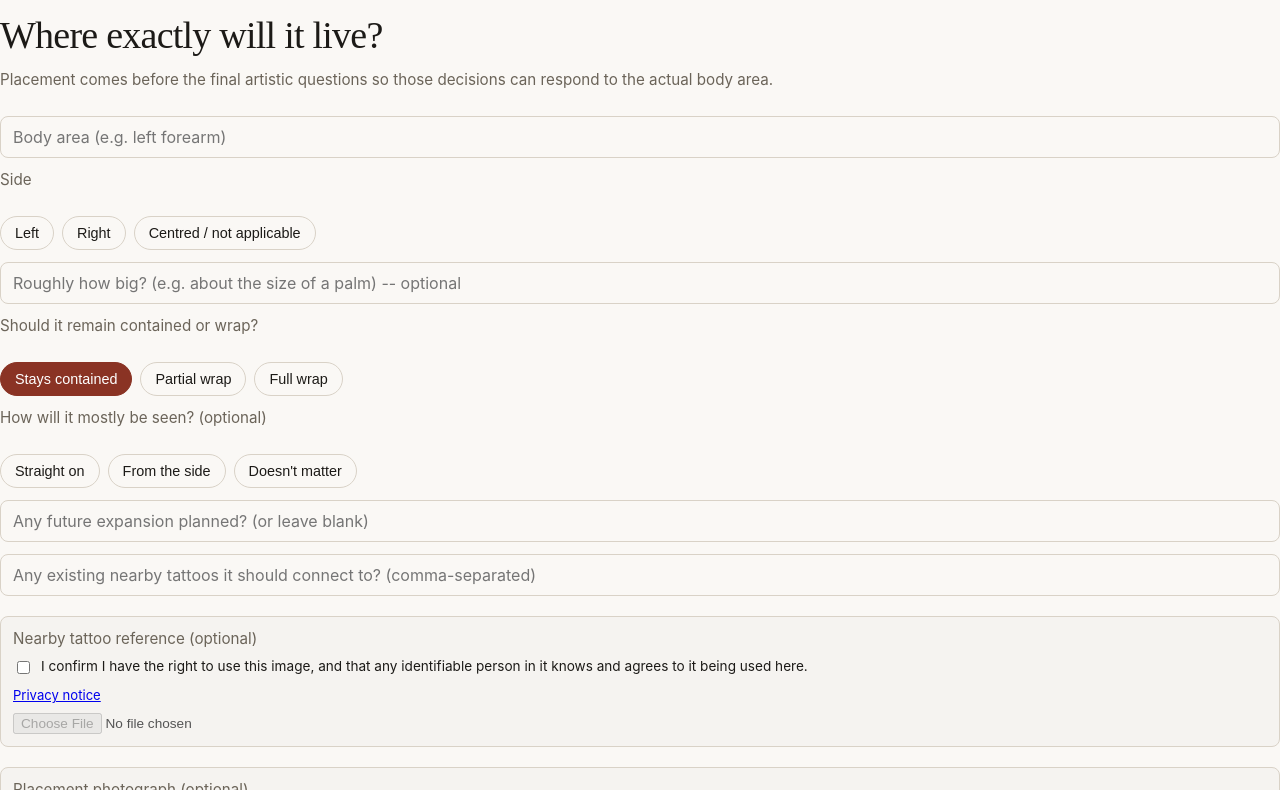
Scenario: Placement -- third-party photo rights checkboxes (two independent upload slots) › does not block the rest of the journey -- Continue only requires body area, uploads stay optional
The width and height of the screenshot is (1280, 790).
Type "left forearm" into the field with placeholder "Body area (e.g. left forearm)".
click(640, 137); type("left forearm")  # box [0,116,1279,158]
(page scrolled)
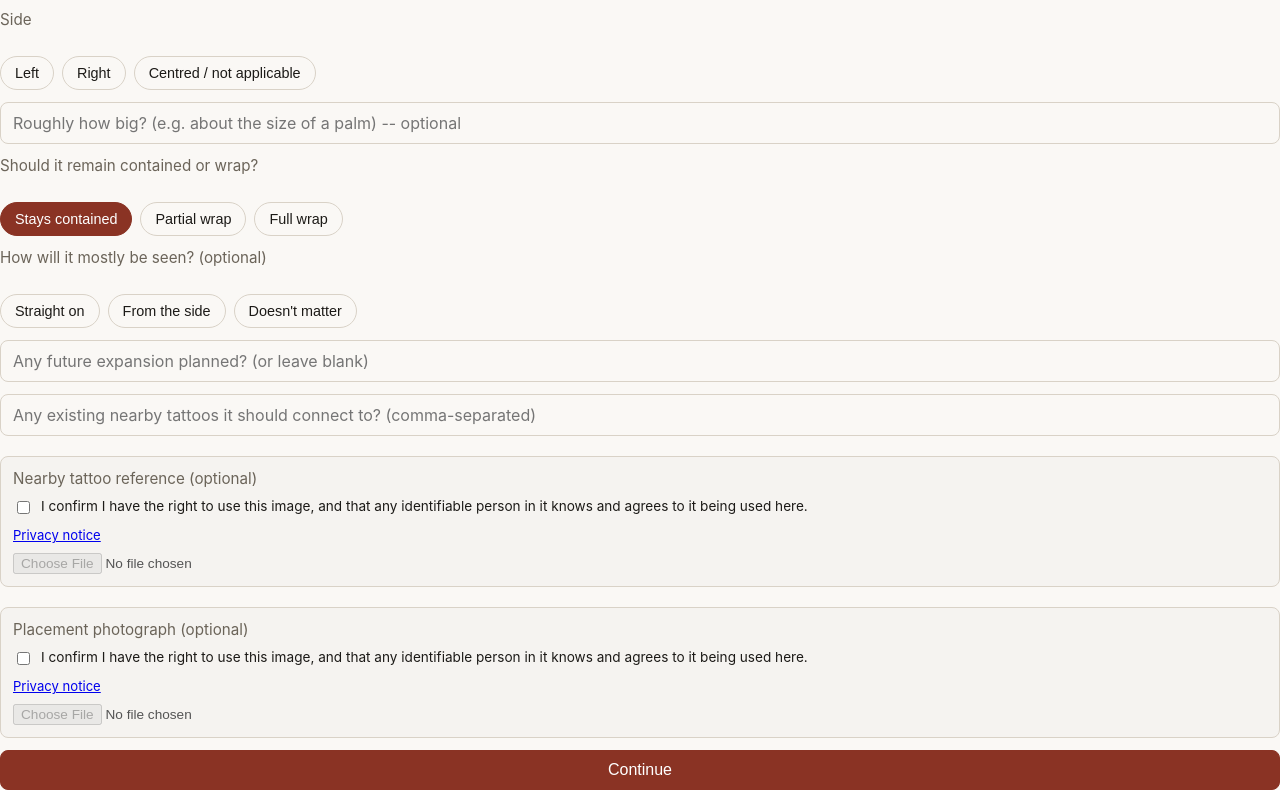
Result: the button "Continue" is enabled at [0,750,1279,789]
